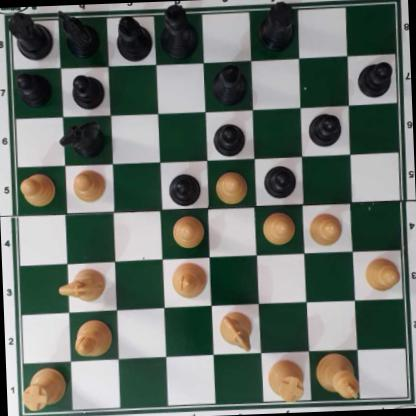black-bishop: (115, 13, 153, 62), (212, 62, 247, 106)
black-king: (159, 3, 199, 58)
black-knight: (60, 7, 99, 60), (58, 119, 104, 157)
black-pawn: (356, 60, 394, 99), (16, 70, 52, 106), (212, 121, 247, 157), (307, 111, 342, 147), (263, 163, 297, 199), (71, 71, 103, 109), (168, 171, 202, 206)
black-rook: (6, 7, 53, 61), (256, 0, 297, 51)
white-bishop: (73, 318, 114, 361), (170, 260, 208, 298)
white-king: (315, 350, 360, 401)
white-knight: (57, 267, 106, 305), (217, 309, 255, 352)
white-pawn: (362, 256, 400, 293), (307, 210, 343, 247), (71, 168, 107, 203), (212, 169, 249, 203), (20, 172, 57, 206), (261, 211, 295, 246), (171, 212, 204, 247)
white-rook: (20, 366, 67, 410), (267, 359, 306, 402)
